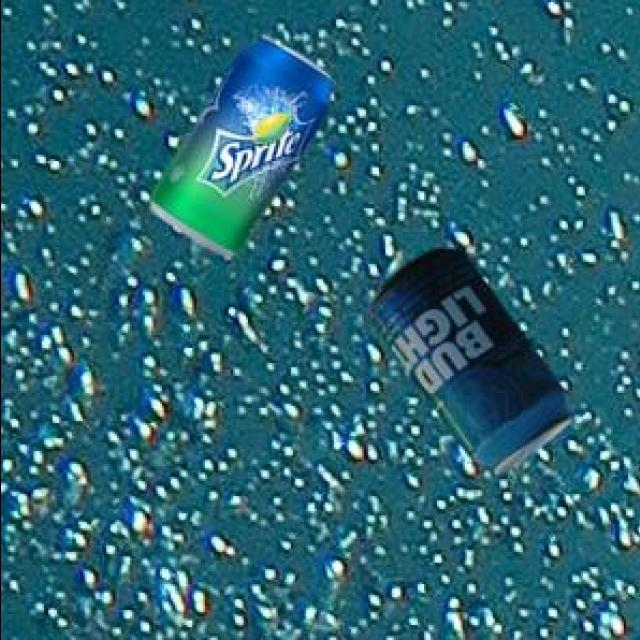logam: (373, 246, 574, 471), (154, 33, 336, 254)
